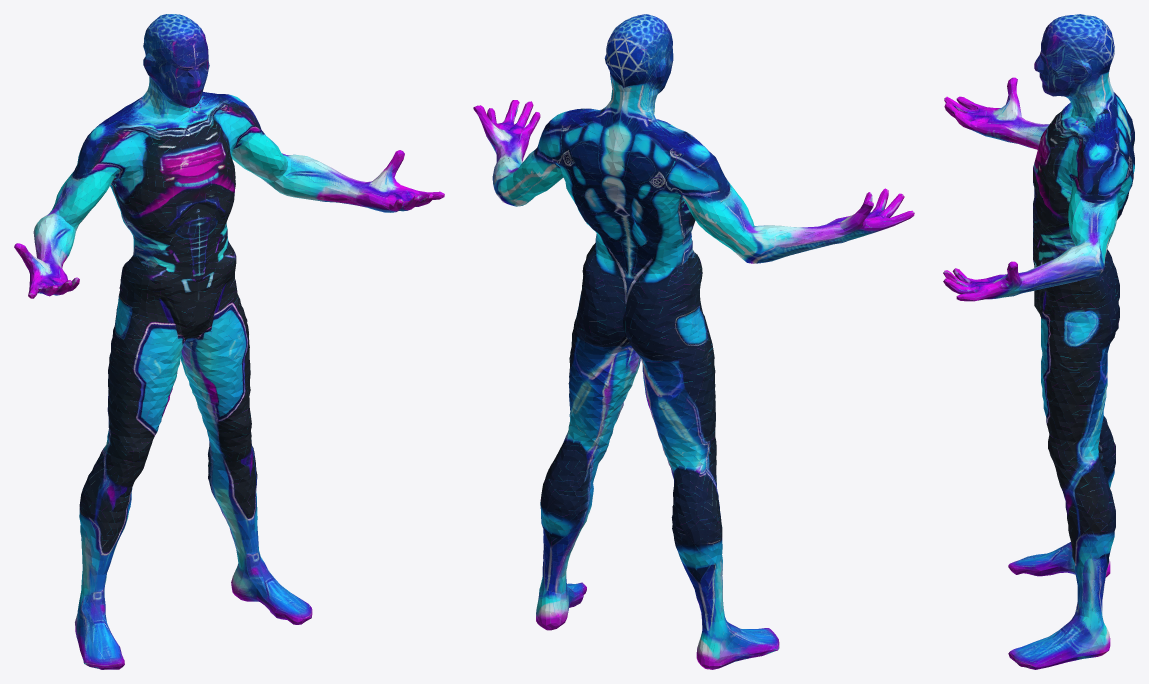
Rendered from wall-neon.glb.
3 views of the same model, side by side, from view 1: azimuth 30°, elevation 25°; view 2: azimuth 150°, elevation 25°; view 3: azimuth 270°, elevation 25° (orthographic). The views are drawn at different scales.
Size of the model in its own units: 1.29 by 1.8 by 0.5211.
1 material, 1 textured.
